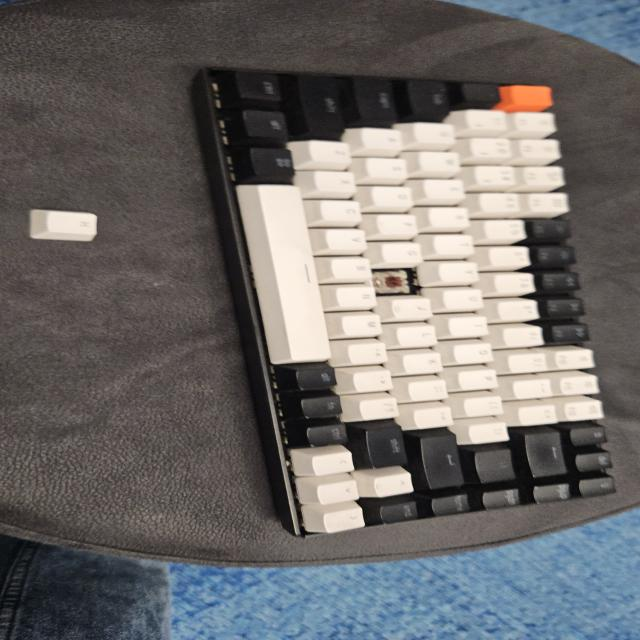C: (378, 274, 413, 294), (379, 273, 414, 291)
